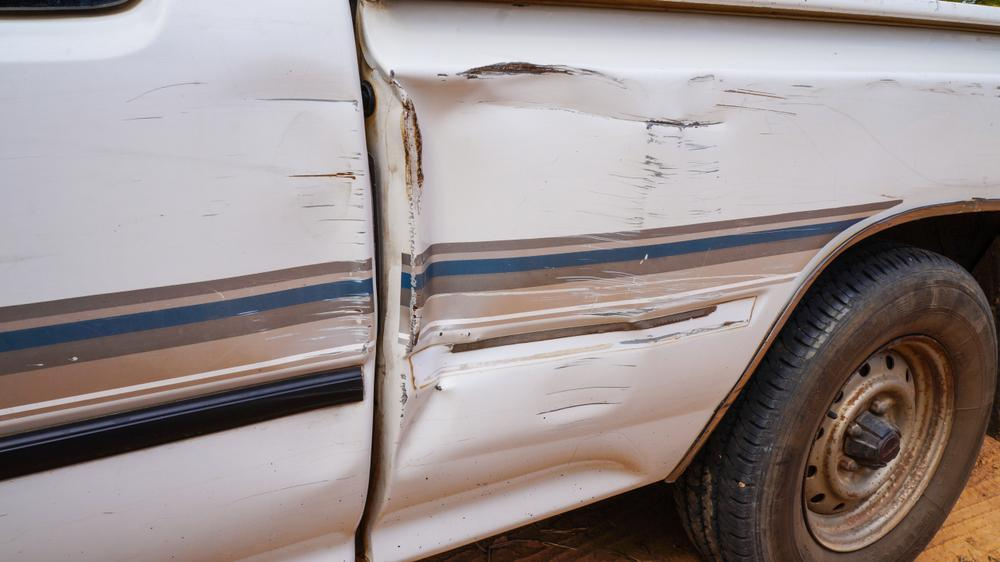dent: (396, 70, 730, 473), (207, 55, 368, 362)
